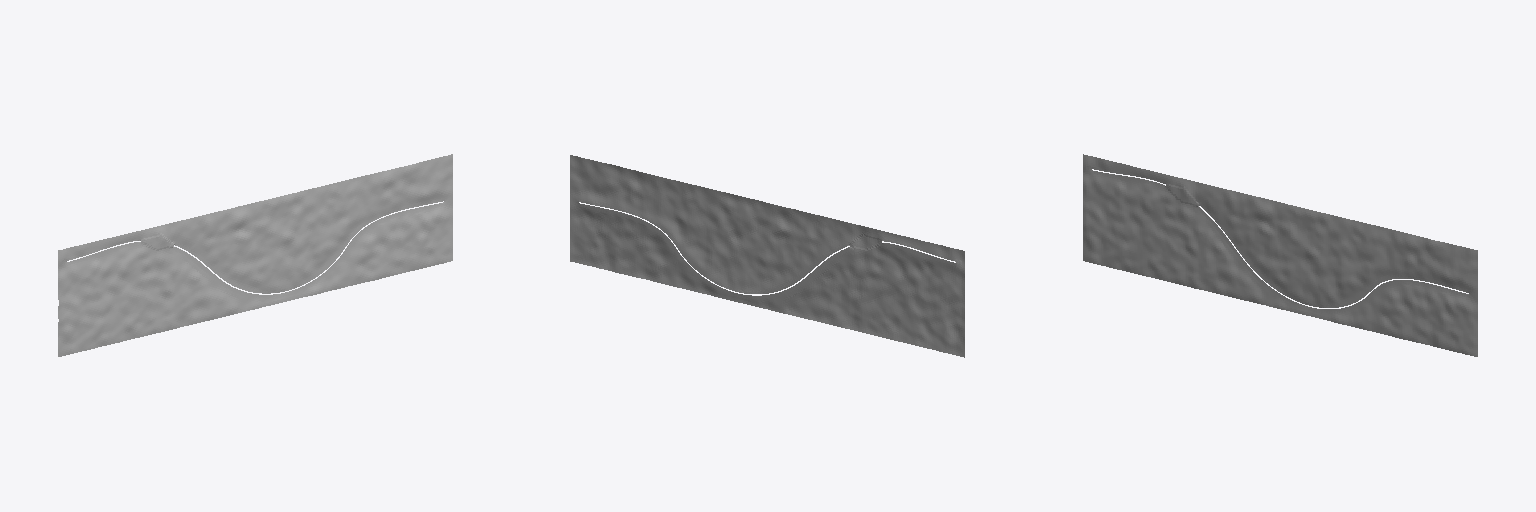
The model's file is curveAutobahnFinal.obj.
3 renders of one model, left to right at view 1: azimuth 30°, elevation 25°; view 2: azimuth 150°, elevation 25°; view 3: azimuth 330°, elevation 25°, orthographic.
Parts seen in each view (by area): view 1: Background; view 2: Background; view 3: Background.
Boxes of the visible parts, <box> form: Background: <box>58,154,452,356</box>; Background: <box>570,155,964,357</box>; Background: <box>1083,154,1477,356</box>.
Size of the model in its own units: 9600 by 2480 by 46.62.